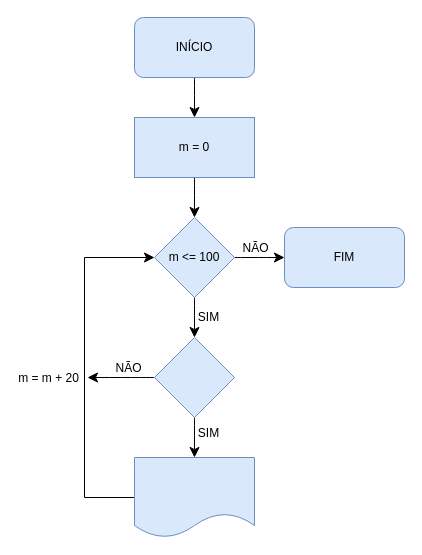
This 422x555 diagram has some shape labels left out. The box of each missing label's shape, as (x1, y1, x2, y2) in pixels:
"múltiplo de 20 = ", m: (134, 456, 254, 538)
m <> 0: (154, 336, 234, 418)
